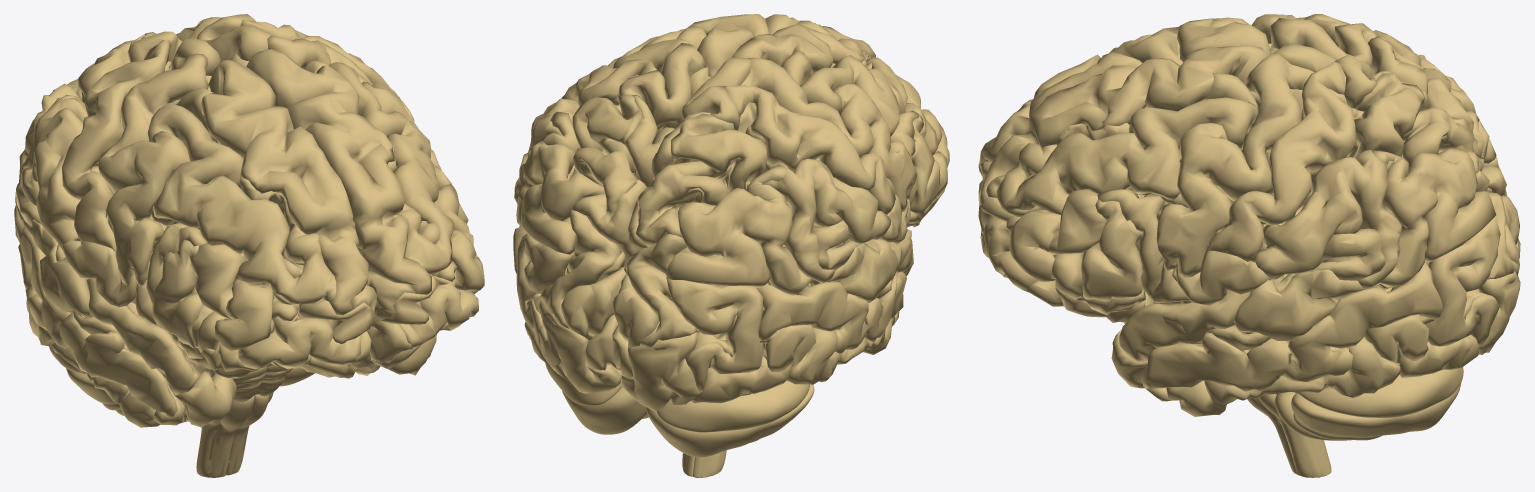
File: brain.glb
3 views of the same model, side by side, from view 1: azimuth 30°, elevation 25°; view 2: azimuth 150°, elevation 25°; view 3: azimuth 270°, elevation 25° (orthographic). The views are drawn at different scales.
Parts seen in each view (by area): view 1: real-cerebrum-middle-frontal-gyrus-right, real-cerebrum-superior-frontal-gyrus-right, real-cerebrum-superior-frontal-gyrus-left, real-cerebrum-precentral-gyrus-right, real-cerebrum-middle-frontal-gyrus-left, real-cerebrum-postcentral-gyrus-right, real-cerebrum-middle-temporal-gyrus-right, real-cerebrum-superior-temporal-gyrus-lateral-part-right, real-cerebrum-supramarginal-gyrus-right, real-cerebrum-orbital-gyri-frontomarginal-gyrus-and-sulcus-r, real-cerebrum-triangular-part-of-inferior-frontal-gyrus-righ, real-cerebrum-inferior-frontal-sulcus-right (+27 smaller); view 2: real-cerebrum-angular-gyrus-right, real-cerebrum-lateral-occipital-gyrus-middle-occipital-gyrus (×2), real-cerebrum-superior-parietal-lobule-right, real-cerebrum-postcentral-gyrus-right, real-cerebrum-supramarginal-gyrus-right, real-cerebrum-angular-gyrus-left, real-cerebrum-precentral-gyrus-right, real-cerebrum-middle-temporal-gyrus-right, real-cerebrum-superior-parietal-lobule-left, real-cerebrum-middle-frontal-gyrus-right, real-cerebrum-inferior-temporal-gyrus-right, real-cerebellum-superior-semilunar-lobule-right (+31 smaller); view 3: real-cerebrum-middle-frontal-gyrus-left, real-cerebrum-precentral-gyrus-left, real-cerebrum-middle-temporal-gyrus-left, real-cerebrum-superior-frontal-gyrus-left, real-cerebrum-postcentral-gyrus-left, real-cerebrum-supramarginal-gyrus-left, real-cerebrum-superior-temporal-gyrus-lateral-part-left, real-cerebrum-angular-gyrus-left, real-cerebrum-inferior-temporal-gyrus-left, real-cerebrum-superior-frontal-gyrus-right, real-cerebrum-superior-parietal-lobule-left, real-cerebrum-lateral-occipital-gyrus-middle-occipital-gyrus (+26 smaller).
Part boxes in pixels (x1,y1,x2,y2): real-cerebrum-middle-frontal-gyrus-right: (147, 103, 336, 350); real-cerebrum-superior-frontal-gyrus-right: (201, 60, 376, 320); real-cerebrum-superior-frontal-gyrus-left: (230, 49, 431, 327); real-cerebrum-precentral-gyrus-right: (98, 53, 208, 285); real-cerebrum-middle-frontal-gyrus-left: (328, 62, 484, 291); real-cerebrum-postcentral-gyrus-right: (62, 40, 170, 251); real-cerebrum-middle-temporal-gyrus-right: (14, 205, 177, 418); real-cerebrum-superior-temporal-gyrus-lateral-part-right: (25, 219, 199, 395); real-cerebrum-supramarginal-gyrus-right: (15, 97, 87, 249); real-cerebrum-orbital-gyri-frontomarginal-gyrus-and-sulcus-r: (238, 308, 361, 369); real-cerebrum-triangular-part-of-inferior-frontal-gyrus-righ: (152, 239, 203, 347); real-cerebrum-inferior-frontal-sulcus-right: (151, 206, 246, 318); real-cerebrum-angular-gyrus-right: (666, 164, 812, 294); real-cerebrum-lateral-occipital-gyrus-middle-occipital-gyrus (×2): (516, 234, 763, 391); real-cerebrum-superior-parietal-lobule-right: (636, 113, 766, 246); real-cerebrum-postcentral-gyrus-right: (724, 85, 895, 214); real-cerebrum-supramarginal-gyrus-right: (762, 158, 891, 282); real-cerebrum-angular-gyrus-left: (516, 111, 604, 254); real-cerebrum-precentral-gyrus-right: (741, 57, 916, 211); real-cerebrum-middle-temporal-gyrus-right: (756, 271, 906, 353); real-cerebrum-superior-parietal-lobule-left: (571, 94, 644, 233); real-cerebrum-middle-frontal-gyrus-right: (800, 55, 949, 167); real-cerebrum-inferior-temporal-gyrus-right: (760, 316, 895, 384); real-cerebellum-superior-semilunar-lobule-right: (656, 380, 809, 432); real-cerebrum-middle-frontal-gyrus-left: (986, 97, 1258, 281); real-cerebrum-precentral-gyrus-left: (1156, 52, 1314, 277); real-cerebrum-middle-temporal-gyrus-left: (1141, 262, 1442, 391); real-cerebrum-superior-frontal-gyrus-left: (978, 45, 1267, 205); real-cerebrum-postcentral-gyrus-left: (1205, 61, 1356, 262); real-cerebrum-supramarginal-gyrus-left: (1254, 150, 1401, 289); real-cerebrum-superior-temporal-gyrus-lateral-part-left: (1119, 269, 1364, 362); real-cerebrum-angular-gyrus-left: (1371, 148, 1496, 288); real-cerebrum-inferior-temporal-gyrus-left: (1166, 314, 1434, 416); real-cerebrum-superior-frontal-gyrus-right: (978, 18, 1278, 181); real-cerebrum-superior-parietal-lobule-left: (1354, 73, 1484, 173); real-cerebrum-lateral-occipital-gyrus-middle-occipital-gyrus: (1425, 215, 1500, 346).
Size of the model in its own units: 0.1378 by 0.1608 by 0.1807.
